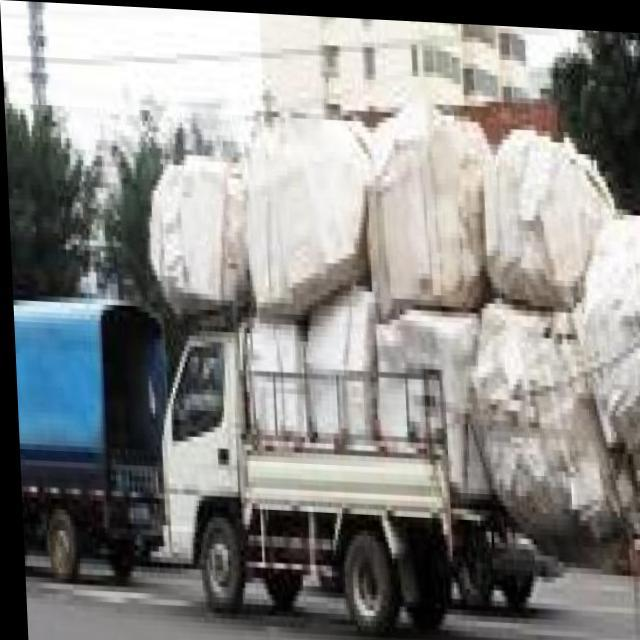covered: (146, 121, 640, 597)
